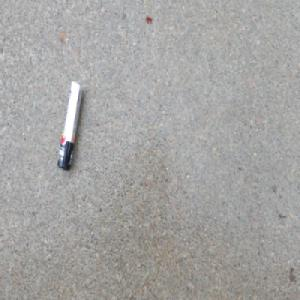Battery: (57, 78, 85, 172)
